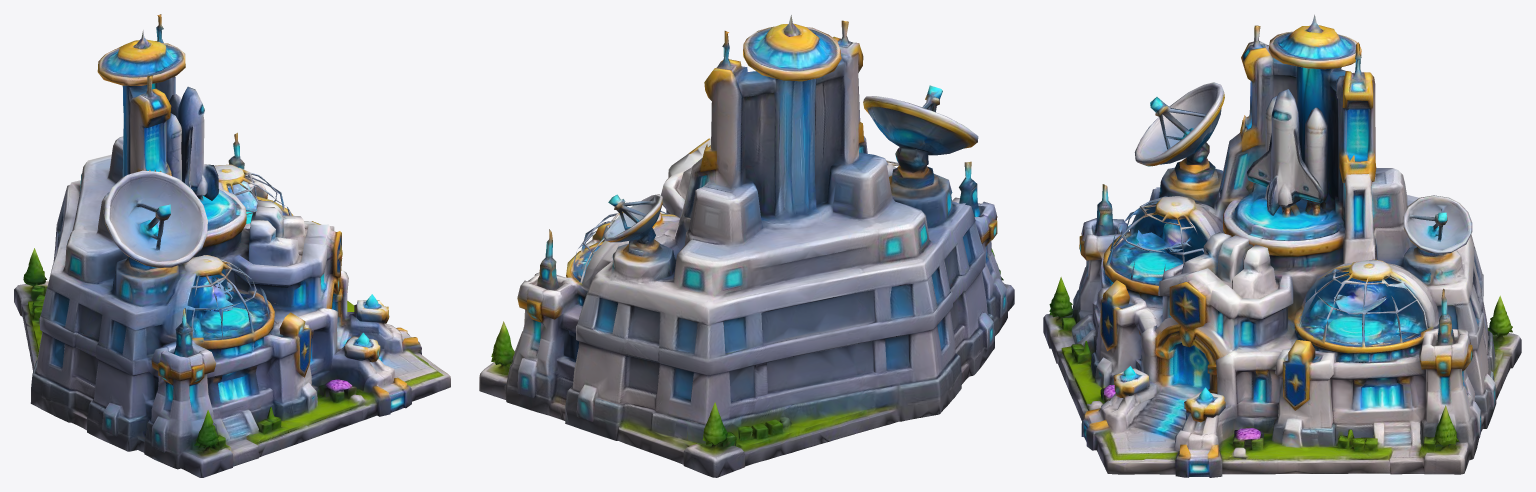
File: th_shuttle.glb
3 views of the same model, side by side, from view 1: azimuth 30°, elevation 25°; view 2: azimuth 150°, elevation 25°; view 3: azimuth 270°, elevation 25° (orthographic). The views are drawn at different scales.
Parts seen in each view (by area): view 1: tripo_node_ca7f2561-07f8-42b7-9f4f-ad1fc7960f9a; view 2: tripo_node_ca7f2561-07f8-42b7-9f4f-ad1fc7960f9a; view 3: tripo_node_ca7f2561-07f8-42b7-9f4f-ad1fc7960f9a.
Boxes of the visible parts, x1,y1,x2,y2 form: tripo_node_ca7f2561-07f8-42b7-9f4f-ad1fc7960f9a: (14, 14, 450, 477); tripo_node_ca7f2561-07f8-42b7-9f4f-ad1fc7960f9a: (479, 15, 1014, 477); tripo_node_ca7f2561-07f8-42b7-9f4f-ad1fc7960f9a: (1043, 14, 1521, 477).
Bounding box in the file's own units: 0.8583 × 0.8146 × 1.
Materials: 1 (1 with a texture image).
